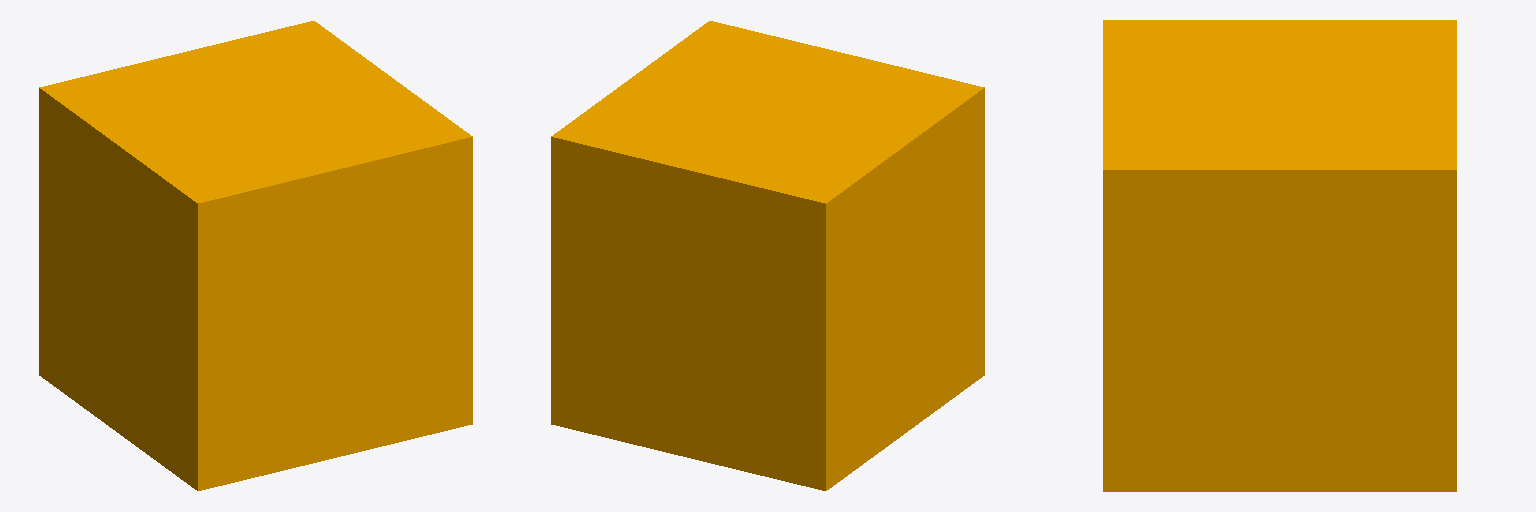
The robot description file, URDF, robot "ur5_robotiq_140":
<?xml version="1.0" ?>
<!-- =================================================================================== -->
<!-- |    This document was autogenerated by xacro from sisbot.xacro                   | -->
<!-- |    EDITING THIS FILE BY HAND IS NOT RECOMMENDED                                 | -->
<!-- =================================================================================== -->
<robot name="ur5_robotiq_140" xmlns:xacro="http://ros.org/wiki/xacro">
  <!--################################################
  ########              arm                    #######
  ####################################################-->

  <link name="base_link">
    <visual>
      <geometry>
        <mesh filename="../meshes/ur5/visual/base.obj"/>
      </geometry>
      <material name="LightGrey">
        <color rgba="0.7 0.7 0.7 1.0"/>
      </material>
    </visual>
    <collision>
      <geometry>
        <mesh filename="../meshes/ur5/collision/base.stl"/>
      </geometry>
    </collision>
    <inertial>
      <mass value="4.0"/>
      <origin rpy="0 0 0" xyz="0.0 0.0 0.0"/>
      <inertia ixx="0.00443333156" ixy="0.0" ixz="0.0" iyy="0.00443333156" iyz="0.0" izz="0.0072"/>
    </inertial>
  </link>

  <joint name="shoulder_pan_joint" type="revolute">
    <parent link="base_link"/>
    <child link="shoulder_link"/>
    <origin rpy="0.0 0.0 0.0" xyz="0.0 0.0 0.089159"/>
    <axis xyz="0 0 1"/>
    <limit effort="150.0" lower="-3.14159265359" upper="3.14159265359" velocity="3.15"/>
    <dynamics damping="0.0" friction="0.0"/>
  </joint>
  <link name="shoulder_link">
    <visual>
      <geometry>
        <mesh filename="../meshes/ur5/visual/shoulder.obj"/>
      </geometry>
      <material name="DarkGray">
        <color rgba="0.5 0.5 0.5 1.0"/>
      </material>
    </visual>
    <collision>
      <geometry>
        <mesh filename="../meshes/ur5/collision/shoulder.stl"/>
      </geometry>
    </collision>
    <inertial>
      <mass value="3.7"/>
      <origin rpy="0 0 0" xyz="0.0 0.0 0.0"/>
      <inertia ixx="0.010267495893" ixy="0.0" ixz="0.0" iyy="0.010267495893" iyz="0.0" izz="0.00666"/>
    </inertial>
  </link>
  <joint name="shoulder_lift_joint" type="revolute">
    <parent link="shoulder_link"/>
    <child link="upper_arm_link"/>
    <origin rpy="0.0 1.57079632679 0.0" xyz="0.0 0.13585 0.0"/>
    <axis xyz="0 1 0"/>
    <limit effort="150.0" lower="-3.14159265359" upper="3.14159265359" velocity="3.15"/>
    <dynamics damping="0.0" friction="0.0"/>
  </joint>
  <link name="upper_arm_link">
    <visual>
      <geometry>
        <mesh filename="../meshes/ur5/visual/upperarm.obj"/>
      </geometry>
      <material name="LightGrey">
        <color rgba="0.7 0.7 0.7 1.0"/>
      </material>
    </visual>
    <collision>
      <geometry>
        <mesh filename="../meshes/ur5/collision/upperarm.stl"/>
      </geometry>
    </collision>
    <inertial>
      <mass value="8.393"/>
      <origin rpy="0 0 0" xyz="0.0 0.0 0.28"/>
      <inertia ixx="0.22689067591" ixy="0.0" ixz="0.0" iyy="0.22689067591" iyz="0.0" izz="0.0151074"/>
    </inertial>
  </link>
  <joint name="elbow_joint" type="revolute">
    <parent link="upper_arm_link"/>
    <child link="forearm_link"/>
    <origin rpy="0.0 0.0 0.0" xyz="0.0 -0.1197 0.425"/>
    <axis xyz="0 1 0"/>
    <limit effort="150.0" lower="-3.14159265359" upper="3.14159265359" velocity="3.15"/>
    <dynamics damping="0.0" friction="0.0"/>
  </joint>
  <link name="forearm_link">
    <visual>
      <geometry>
        <mesh filename="../meshes/ur5/visual/forearm.obj"/>
      </geometry>
      <material name="LightGrey">
        <color rgba="0.7 0.7 0.7 1.0"/>
      </material>
    </visual>
    <collision>
      <geometry>
        <mesh filename="../meshes/ur5/collision/forearm.stl"/>
      </geometry>
    </collision>
    <inertial>
      <mass value="2.275"/>
      <origin rpy="0 0 0" xyz="0.0 0.0 0.25"/>
      <inertia ixx="0.049443313556" ixy="0.0" ixz="0.0" iyy="0.049443313556" iyz="0.0" izz="0.004095"/>
    </inertial>
  </link>
  <joint name="wrist_1_joint" type="revolute">
    <parent link="forearm_link"/>
    <child link="wrist_1_link"/>
    <origin rpy="0.0 1.57079632679 0.0" xyz="0.0 0.0 0.39225"/>
    <axis xyz="0 1 0"/>
    <limit effort="28.0" lower="-3.14159265359" upper="3.14159265359" velocity="3.2"/>
    <dynamics damping="0.0" friction="0.0"/>
  </joint>
  <link name="wrist_1_link">
    <visual>
      <geometry>
        <mesh filename="../meshes/ur5/visual/wrist1.obj"/>
      </geometry>
      <material name="DarkGray">
        <color rgba="0.5 0.5 0.5 1.0"/>
      </material>
    </visual>
    <collision>
      <geometry>
        <mesh filename="../meshes/ur5/collision/wrist1.stl"/>
      </geometry>
    </collision>
    <inertial>
      <mass value="1.219"/>
      <origin rpy="0 0 0" xyz="0.0 0.0 0.0"/>
      <inertia ixx="0.111172755531" ixy="0.0" ixz="0.0" iyy="0.111172755531" iyz="0.0" izz="0.21942"/>
    </inertial>
  </link>
  <joint name="wrist_2_joint" type="revolute">
    <parent link="wrist_1_link"/>
    <child link="wrist_2_link"/>
    <origin rpy="0.0 0.0 0.0" xyz="0.0 0.093 0.0"/>
    <axis xyz="0 0 1"/>
    <limit effort="28.0" lower="-3.14159265359" upper="3.14159265359" velocity="3.2"/>
    <dynamics damping="0.0" friction="0.0"/>
  </joint>
  <link name="wrist_2_link">
    <visual>
      <geometry>
        <mesh filename="../meshes/ur5/visual/wrist2.obj"/>
      </geometry>
      <material name="DarkGray">
        <color rgba="0.5 0.5 0.5 1.0"/>
      </material>
    </visual>
    <collision>
      <geometry>
        <mesh filename="../meshes/ur5/collision/wrist2.stl"/>
      </geometry>
    </collision>
    <inertial>
      <mass value="1.219"/>
      <origin rpy="0 0 0" xyz="0.0 0.0 0.0"/>
      <inertia ixx="0.111172755531" ixy="0.0" ixz="0.0" iyy="0.111172755531" iyz="0.0" izz="0.21942"/>
    </inertial>
  </link>
  <joint name="wrist_3_joint" type="revolute">
    <parent link="wrist_2_link"/>
    <child link="wrist_3_link"/>
    <origin rpy="0.0 0.0 0.0" xyz="0.0 0.0 0.09465"/>
    <axis xyz="0 1 0"/>
    <limit effort="28.0" lower="-3.14159265359" upper="3.14159265359" velocity="3.2"/>
    <dynamics damping="0.0" friction="0.0"/>
  </joint>
  <link name="wrist_3_link">
    <visual>
      <geometry>
        <mesh filename="../meshes/ur5/visual/wrist3.obj"/>
      </geometry>
      <material name="LightGrey">
        <color rgba="0.7 0.7 0.7 1.0"/>
      </material>
    </visual>
    <collision>
      <geometry>
        <mesh filename="../meshes/ur5/collision/wrist3.stl"/>
      </geometry>
    </collision>
    <inertial>
      <mass value="0.1879"/>
      <origin rpy="0 0 0" xyz="0.0 0.0 0.0"/>
      <inertia ixx="0.0171364731454" ixy="0.0" ixz="0.0" iyy="0.0171364731454" iyz="0.0" izz="0.033822"/>
    </inertial>
  </link>
  <joint name="ee_fixed_joint" type="fixed">
    <parent link="wrist_3_link"/>
    <child link="robotiq_85_base_link"/>
    <origin rpy="0.0 0.0 1.57079632679" xyz="0.0 0.0823 0.0"/>
  </joint>


  <!--################################################
  ########              gripper                  #####
  ####################################################-->

  <!-- robot -->
  <link name="end_effector_indicator_link">
    <visual>
      <geometry>
        <box size="0.005 0.005 0.005"/>
      </geometry>
      <material name="Yellow">
        <color rgba="1.0 0.7 0.0 1.0"/>
      </material>
    </visual>
    <inertial>
      <mass value="0.1" />
      <inertia ixx = "0" ixy = "0" ixz = "0"
               iyx = "0" iyy = "0" iyz = "0"
               izx = "0" izy = "0" izz = "0" />
    </inertial>
  </link>

  <joint name="end_effector_fixed_joint" type="fixed">
    <parent link="robotiq_85_base_link"/>
    <child link="end_effector_indicator_link"/>
    <origin xyz="0.137 0 0" />
  </joint>

  <link name="robotiq_85_base_link">
    <visual>
      <geometry>
        <mesh filename="../meshes2/visual/robotiq_85_base_link.dae"/>
      </geometry>
      <material name="Silver">
        <color rgba="0.0 0.0 0.0 1.0"/>
      </material>
    </visual>
    <collision>
      <geometry>
        <mesh filename="../meshes2/collision/robotiq_85_base_link.stl"/>
      </geometry>
    </collision>
    <inertial>
      <mass value="0.636951" />
      <origin xyz="0.0 0.0 0.0" />
      <inertia ixx = "0.000380" ixy = "0.000000" ixz = "0.000000"
           iyx = "0.000000" iyy = "0.001110" iyz = "0.000000"
           izx = "0.000000" izy = "0.000000" izz = "0.001171" />
    </inertial>
  </link>

  <joint name="robotiq_85_left_knuckle_joint" type="revolute">
    <parent link="robotiq_85_base_link"/>
    <child link="robotiq_85_left_knuckle_link"/>
    <axis xyz="0 0 1"/>
    <origin rpy="3.14 0.0 0.0" xyz="0.05490451627 0.03060114443 0.0"/>
    <limit lower="0.0" upper="0.80285" velocity="3.14" effort="1000"/>
  </joint>

  <joint name="robotiq_85_right_knuckle_joint" type="revolute">
    <parent link="robotiq_85_base_link"/>
    <child link="robotiq_85_right_knuckle_link"/>
    <axis xyz="0 0 1"/>
    <origin rpy="0.0 0.0 0.0" xyz="0.05490451627 -0.03060114443 0.0"/>
    <limit lower="-3.14" upper="3.14" velocity="3.14" effort="1000"/>
    <mimic joint="robotiq_85_left_knuckle_joint"/>
  </joint>

  <link name="robotiq_85_left_knuckle_link">
    <visual>
      <geometry>
        <mesh filename="../meshes2/visual/robotiq_85_knuckle_link.dae"/>
      </geometry>
      <material name="Black">
        <color rgba="1.0 1.0 1.0 1.0"/>
      </material>
    </visual>
    <collision>
      <geometry>
        <mesh filename="../meshes2/collision/robotiq_85_knuckle_link.stl"/>
      </geometry>
    </collision>
    <inertial>
      <mass value="0.018491" />
      <origin xyz="0.0 0.0 0.0" />
      <inertia ixx = "0.000009" ixy = "-0.000001" ixz = "0.000000"
           iyx = "-0.000001" iyy = "0.000001" iyz = "0.000000"
           izx = "0.000000" izy = "0.000000" izz = "0.000010" />
    </inertial>
  </link>

  <link name="robotiq_85_right_knuckle_link">
    <visual>
      <geometry>
        <mesh filename="../meshes2/visual/robotiq_85_knuckle_link.dae"/>
      </geometry>
      <material name="Black">
        <color rgba="1.0 1.0 1.0 1.0"/>
      </material>
    </visual>
    <collision>
      <geometry>
        <mesh filename="../meshes2/collision/robotiq_85_knuckle_link.stl"/>
      </geometry>
    </collision>
    <inertial>
      <mass value="0.018491" />
      <origin xyz="0.0 0.0 0.0" />
      <inertia ixx = "0.000009" ixy = "-0.000001" ixz = "0.000000"
           iyx = "-0.000001" iyy = "0.000001" iyz = "0.000000"
           izx = "0.000000" izy = "0.000000" izz = "0.000010" />
    </inertial>
  </link>

  <joint name="robotiq_85_left_finger_joint" type="fixed">
    <parent link="robotiq_85_left_knuckle_link"/>
    <child link="robotiq_85_left_finger_link"/>
    <origin xyz="-0.00408552455 -0.03148604435 0.0" rpy="0 0 0" />
  </joint>

  <joint name="robotiq_85_right_finger_joint" type="fixed">
    <parent link="robotiq_85_right_knuckle_link"/>
    <child link="robotiq_85_right_finger_link"/>
    <origin xyz="-0.00408552455 -0.03148604435 0.0" rpy="0 0 0" />
  </joint>

  <link name="robotiq_85_left_finger_link">
    <visual>
      <geometry>
        <mesh filename="../meshes2/visual/robotiq_85_finger_link.dae"/>
      </geometry>
      <material name="Silver">
        <color rgba="0.3 0.3 0.3 1.0"/>
      </material>
    </visual>
    <collision>
      <geometry>
        <mesh filename="../meshes2/collision/robotiq_85_finger_link.stl"/>
      </geometry>
    </collision>
    <inertial>
      <mass value="0.027309" />
      <origin xyz="0.0 0.0 0.0" />
      <inertia ixx = "0.000003" ixy = "-0.000002" ixz = "0.000000"
           iyx = "-0.000002" iyy = "0.000021" iyz = "0.000000"
           izx = "0.000000" izy = "0.000000" izz = "0.000020" />
    </inertial>
  </link>

  <link name="robotiq_85_right_finger_link">
    <visual>
      <geometry>
        <mesh filename="../meshes2/visual/robotiq_85_finger_link.dae"/>
      </geometry>
      <material name="Silver">
        <color rgba="0.3 0.3 0.3 1.0"/>
      </material>
    </visual>
    <collision>
      <geometry>
        <mesh filename="../meshes2/collision/robotiq_85_finger_link.stl"/>
      </geometry>
    </collision>
    <inertial>
      <mass value="0.027309" />
      <origin xyz="0.0 0.0 0.0" />
      <inertia ixx = "0.000003" ixy = "-0.000002" ixz = "0.000000"
           iyx = "-0.000002" iyy = "0.000021" iyz = "0.000000"
           izx = "0.000000" izy = "0.000000" izz = "0.000020" />
    </inertial>
  </link>

  <joint name="robotiq_85_left_inner_knuckle_joint" type="revolute">
    <parent link="robotiq_85_base_link"/>
    <child link="robotiq_85_left_inner_knuckle_link"/>
    <axis xyz="0 0 1"/>
    <origin xyz="0.06142 0.0127 0" rpy="3.14 0.0 0.0" />
    <limit lower="-3.14" upper="3.14" velocity="3.14" effort="0.1"/>
    <mimic joint="robotiq_85_left_knuckle_joint" offset="0"/>
  </joint>

  <joint name="robotiq_85_right_inner_knuckle_joint" type="revolute">
    <parent link="robotiq_85_base_link"/>
    <child link="robotiq_85_right_inner_knuckle_link"/>
    <axis xyz="0 0 1"/>
    <origin xyz="0.06142 -0.0127 0" rpy="0 0 0"/>
    <limit lower="-3.14" upper="3.14" velocity="3.14" effort="0.1"/>
    <mimic joint="robotiq_85_left_knuckle_joint" offset="0"/>
  </joint>

  <link name="robotiq_85_left_inner_knuckle_link">
    <visual>
      <geometry>
        <mesh filename="../meshes2/visual/robotiq_85_inner_knuckle_link.dae"/>
      </geometry>
      <material name="Black">
        <color rgba="1.0 1.0 1.0 1.0"/>
      </material>
    </visual>
    <collision>
      <geometry>
        <mesh filename="../meshes2/collision/robotiq_85_inner_knuckle_link.stl"/>
      </geometry>
    </collision>
    <inertial>
      <mass value="0.029951" />
      <origin xyz="0.0 0.0 0.0" />
      <inertia ixx = "0.000039" ixy = "0.000000" ixz = "0.000000"
           iyx = "0.000000" iyy = "0.000005" iyz = "0.000000"
           izx = "0.000000" izy = "0.000000" izz = "0.000035" />
    </inertial>
  </link>
  <link name="robotiq_85_right_inner_knuckle_link">
    <visual>
      <geometry>
        <mesh filename="../meshes2/visual/robotiq_85_inner_knuckle_link.dae"/>
      </geometry>
      <material name="Black">
        <color rgba="1.0 1.0 1.0 1.0"/>
      </material>
    </visual>
    <collision>
      <geometry>
        <mesh filename="../meshes2/collision/robotiq_85_inner_knuckle_link.stl"/>
      </geometry>
    </collision>
    <inertial>
      <mass value="0.029951" />
      <origin xyz="0.0 0.0 0.0" />
      <inertia ixx = "0.000039" ixy = "0.000000" ixz = "0.000000"
           iyx = "0.000000" iyy = "0.000005" iyz = "0.000000"
           izx = "0.000000" izy = "0.000000" izz = "0.000035" />
    </inertial>
  </link>

  <joint name="robotiq_85_left_finger_tip_joint" type="revolute">
    <parent link="robotiq_85_left_inner_knuckle_link"/>
    <child link="robotiq_85_left_finger_tip_link"/>
    <axis xyz="0 0 1"/>
    <origin xyz="0.04303959807 -0.03759940821 0.0" rpy="0.0 0.0 0.0"/>
    <limit lower="-3.14" upper="3.14" velocity="3.14" effort="0.1"/>
    <mimic joint="robotiq_85_left_knuckle_joint" multiplier="-1"/>
  </joint>

  <joint name="robotiq_85_right_finger_tip_joint" type="revolute">
    <parent link="robotiq_85_right_inner_knuckle_link"/>
    <child link="robotiq_85_right_finger_tip_link"/>
    <axis xyz="0 0 1"/>
    <origin rpy="0.0 0.0 0.0" xyz="0.04303959807 -0.03759940821  0.0"/>
    <limit lower="-3.14" upper="3.14" velocity="3.14" effort="0.1"/>
    <mimic joint="robotiq_85_left_knuckle_joint" multiplier="-1"/>
  </joint>


  <link name="robotiq_85_left_finger_tip_link">
    <visual>
      <geometry>
        <mesh filename="../meshes2/visual/robotiq_85_finger_tip_link.dae"/>
      </geometry>
      <material name="Silver">
        <color rgba="0.3 0.3 0.3 1.0"/>
      </material>
    </visual>
    <collision>
      <geometry>
        <mesh filename="../meshes2/collision/robotiq_85_finger_tip_link.stl"/>
      </geometry>
    </collision>
    <inertial>
      <mass value="0.019555" />
      <origin xyz="0.0 0.0 0.0" />
      <inertia ixx = "0.000002" ixy = "0.000000" ixz = "0.000000"
           iyx = "0.000000" iyy = "0.000005" iyz = "0.000000"
           izx = "0.000000" izy = "0.000000" izz = "0.000006" />
    </inertial>
  </link>

  <link name="robotiq_85_right_finger_tip_link">
    <visual>
      <geometry>
        <mesh filename="../meshes/visual/robotiq_85_finger_tip_link.dae"/>
      </geometry>
      <material name="Silver">
        <color rgba="0.3 0.3 0.3 1.0"/>
      </material>
    </visual>
    <collision>
      <geometry>
        <mesh filename="../meshes/collision/robotiq_85_finger_tip_link.stl"/>
      </geometry>
    </collision>
    <inertial>
      <mass value="0.019555" />
      <origin xyz="0.0 0.0 0.0" />
      <inertia ixx = "0.000002" ixy = "0.000000" ixz = "0.000000"
           iyx = "0.000000" iyy = "0.000005" iyz = "0.000000"
           izx = "0.000000" izy = "0.000000" izz = "0.000006" />
    </inertial>
  </link>


<!--################################################
  ########          connect model                #####
  ####################################################-->

  <link name="world"/>
  <!-- connect gripper to arm -->
<!--   <joint name="arm_gripper_joint" type="fixed">
    <parent link="ee_link"/>
    <child link="robotiq_85_base_link"/>
    <origin rpy="0.0 0.0 0.0" xyz="0.0 0.0 0.0"/>
  </joint> -->

  <!-- connect arm to world -->
  <joint name="world_arm_joint" type="fixed">
    <parent link="world"/>
    <child link="base_link"/>
    <origin rpy="0.0 0.0 0" xyz="0 0 0.78"/>
  </joint>


</robot>

--- Render facts (derived) ---
The picture shows the robot from 3 angles, left to right: view 1: azimuth 30°, elevation 25°; view 2: azimuth 150°, elevation 25°; view 3: azimuth 270°, elevation 25°; orthographic projection.
Robot: ur5_robotiq_140 — 18 links, 17 joints (12 revolute, 5 fixed); root link world; default pose: every joint at zero.
Links seen in each view (by area): view 1: end_effector_indicator_link; view 2: end_effector_indicator_link; view 3: end_effector_indicator_link.
Link boxes in pixels (x1,y1,x2,y2): end_effector_indicator_link: (39, 21, 472, 490); end_effector_indicator_link: (551, 21, 984, 490); end_effector_indicator_link: (1103, 20, 1456, 491).
Bounding box of the posed robot: 0.005 × 0.005 × 0.005 m (x, y, z).
Meshes: 13 distinct files referenced, 0 mesh visuals loaded (none loaded); not drawn: 16 (reference not matched to a file when rendering).